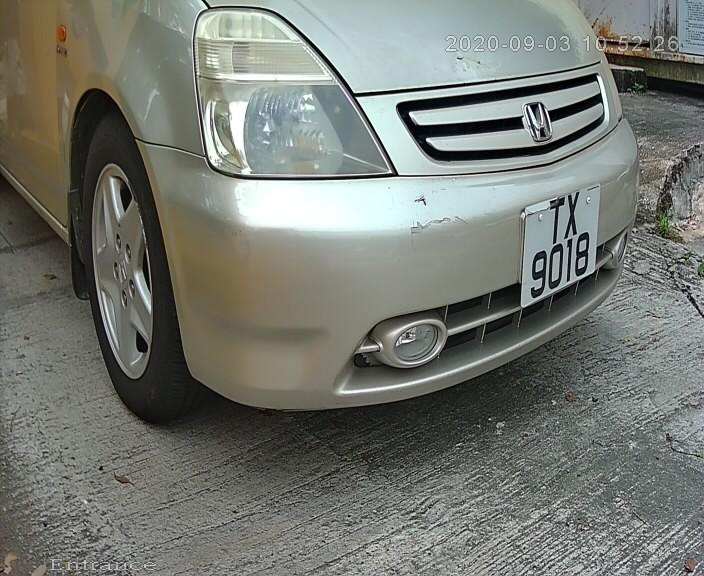Car: (16, 1, 676, 451)
License Plate: (513, 170, 607, 309)
